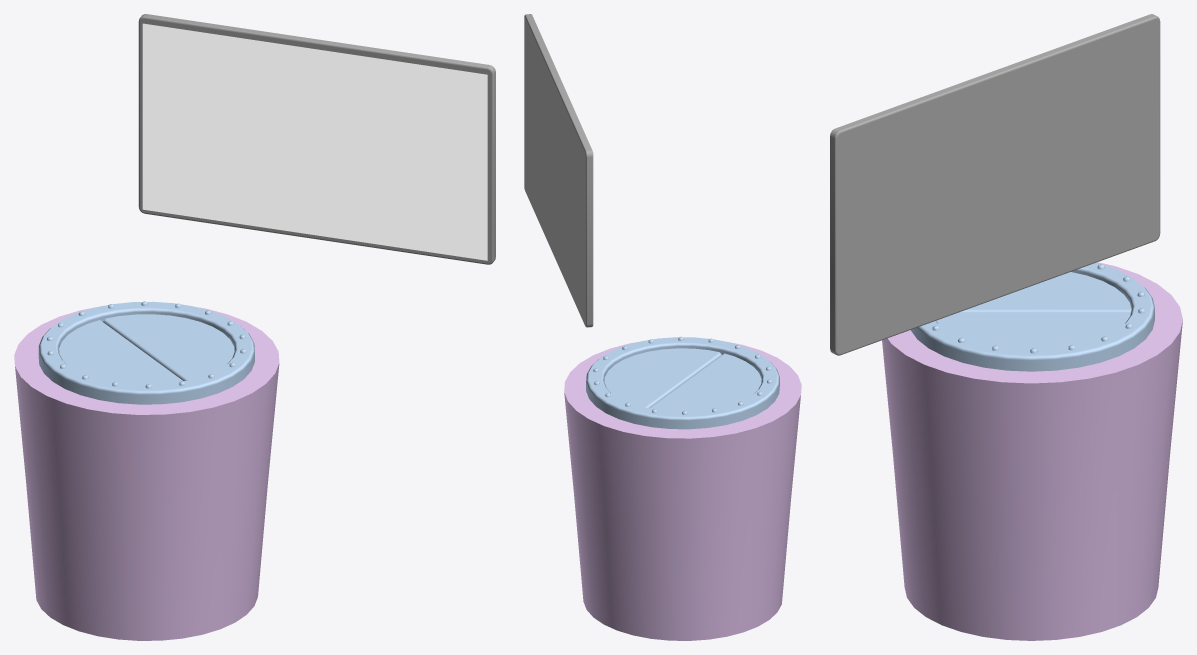
The model's file is CustomShaders.glb.
3 renders of one model, left to right at view 1: azimuth 30°, elevation 25°; view 2: azimuth 150°, elevation 25°; view 3: azimuth 270°, elevation 25°, orthographic. The views are drawn at different scales.
Parts seen in each view (by area): view 1: Quad, GroundCylinderTransparent_1, GroundCylinderTransparent, MetalDoorDring, MoviePanel, MetalDoor1, MetalDoor2; view 2: GroundCylinderTransparent_1, GroundCylinderTransparent, MoviePanel, MetalDoorDring, MetalDoor1, MetalDoor2; view 3: MoviePanel, GroundCylinderTransparent_1, GroundCylinderTransparent, MetalDoorDring, MetalDoor1, MetalDoor2.
Boxes of the visible parts, x1,y1,x2,y2 form: Quad: (142,23,487,260); GroundCylinderTransparent_1: (14,305,279,527); GroundCylinderTransparent: (26,480,268,640); MetalDoorDring: (38,301,254,404); MoviePanel: (138,14,495,264); MetalDoor1: (103,314,234,380); MetalDoor2: (59,320,183,384); GroundCylinderTransparent_1: (564,342,801,539); GroundCylinderTransparent: (574,497,790,640); MoviePanel: (524,14,593,327); MetalDoorDring: (586,336,779,429); MetalDoor1: (604,348,721,408); MetalDoor2: (650,353,761,411); MoviePanel: (830,14,1160,355); GroundCylinderTransparent_1: (882,262,1182,511); GroundCylinderTransparent: (893,455,1169,640); MetalDoorDring: (911,262,1154,371); MetalDoor1: (936,312,1130,348); MetalDoor2: (960,272,1131,312).
Size of what is drawn, in the model's own units: 7.49 by 9.98 by 5.31.
